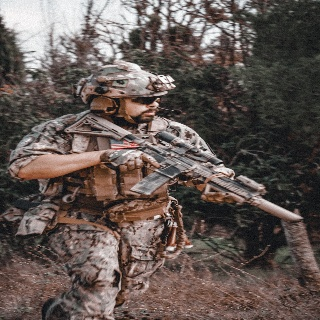rifle: (63, 110, 304, 226)
